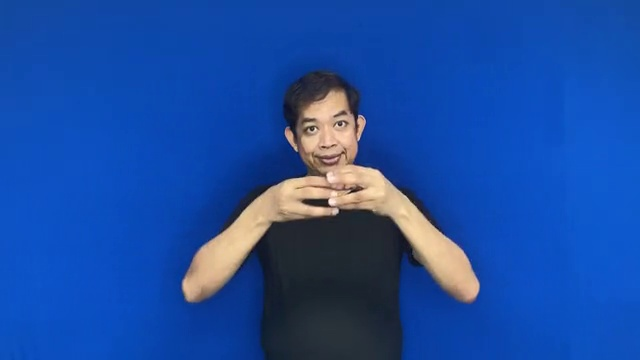egg: (252, 159, 403, 226)
